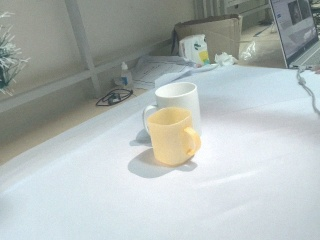bottle: (120, 62, 133, 90)
box: (172, 14, 244, 67)
cup: (144, 105, 203, 169), (155, 81, 203, 137)
